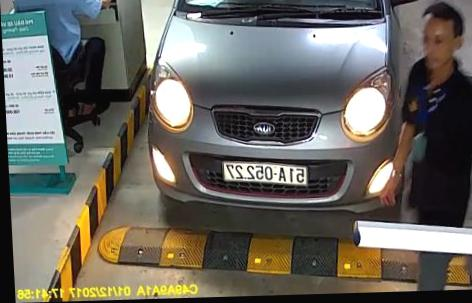License_Plate: (221, 159, 312, 191)
